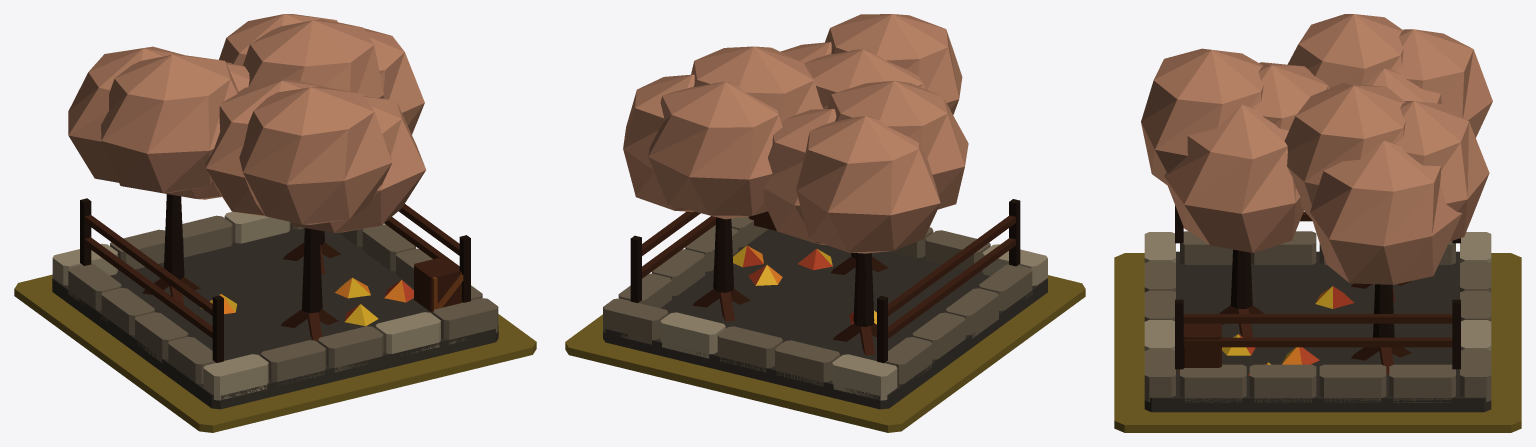
Rendered from frostgrove_t4.glb.
3 renders of one model, left to right at view 1: azimuth 30°, elevation 25°; view 2: azimuth 150°, elevation 25°; view 3: azimuth 270°, elevation 25°, orthographic. The views are drawn at different scales.
Visible parts, largest first — view 1: MMR | frostgrove | T04 Architecture.001, MMR | frostgrove | Tier 04 Ground.001, MMR | frostgrove | T04 Autumn Dressing.001; view 2: MMR | frostgrove | T04 Architecture.001, MMR | frostgrove | Tier 04 Ground.001, MMR | frostgrove | T04 Autumn Dressing.001; view 3: MMR | frostgrove | T04 Architecture.001, MMR | frostgrove | Tier 04 Ground.001, MMR | frostgrove | T04 Autumn Dressing.001.
Boxes of the visible parts, bbox=[...] form: MMR | frostgrove | T04 Architecture.001: bbox=[52, 14, 498, 409]; MMR | frostgrove | Tier 04 Ground.001: bbox=[14, 274, 536, 432]; MMR | frostgrove | T04 Autumn Dressing.001: bbox=[201, 277, 413, 326]; MMR | frostgrove | T04 Architecture.001: bbox=[603, 14, 1047, 409]; MMR | frostgrove | Tier 04 Ground.001: bbox=[565, 275, 1085, 432]; MMR | frostgrove | T04 Autumn Dressing.001: bbox=[733, 245, 876, 324]; MMR | frostgrove | T04 Architecture.001: bbox=[1141, 14, 1492, 412]; MMR | frostgrove | Tier 04 Ground.001: bbox=[1114, 253, 1521, 432]; MMR | frostgrove | T04 Autumn Dressing.001: bbox=[1222, 286, 1353, 375].
Size of the model in its own units: 2.35 by 1.84 by 2.35.
1 material, 1 textured.
